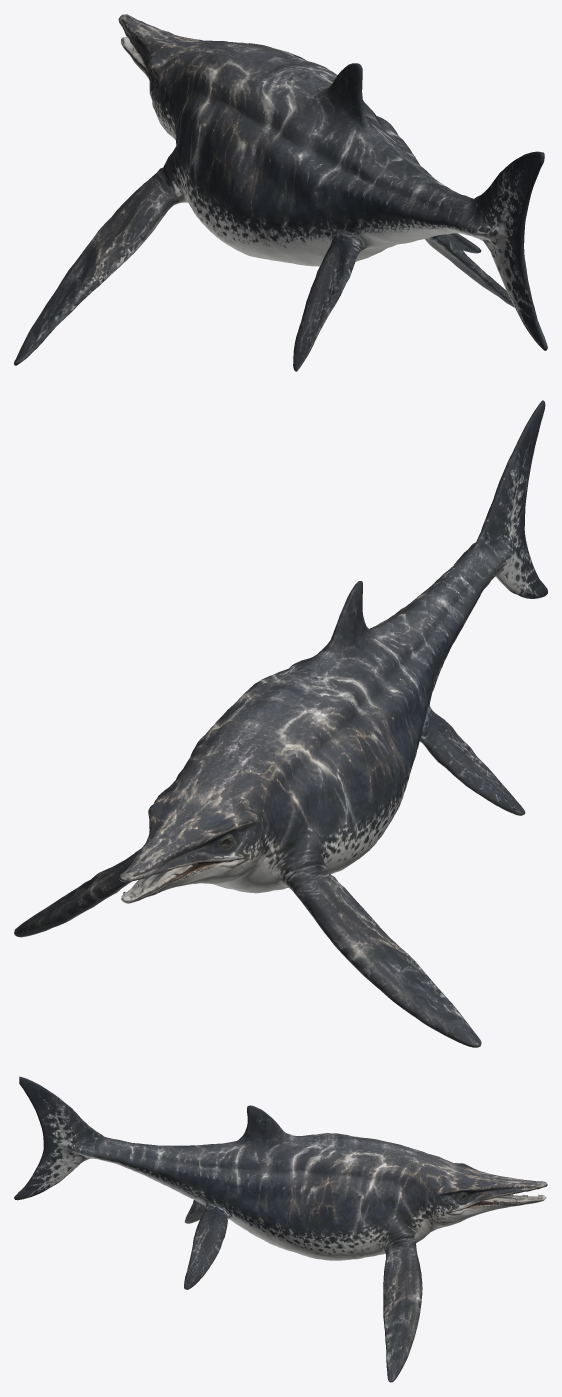
Rendered from shonisaurus.raw.glb.
3 views of the same model, one above another, from view 1: azimuth 30°, elevation 25°; view 2: azimuth 150°, elevation 25°; view 3: azimuth 270°, elevation 25° (orthographic). The views are drawn at different scales.
Visible parts, largest first — view 1: tripo_node_96200215-8896-4447-8891-e4991a2b23f8; view 2: tripo_node_96200215-8896-4447-8891-e4991a2b23f8; view 3: tripo_node_96200215-8896-4447-8891-e4991a2b23f8.
Part boxes in pixels (left/top/right/bottom): tripo_node_96200215-8896-4447-8891-e4991a2b23f8: left=14, top=14, right=547, bottom=371; tripo_node_96200215-8896-4447-8891-e4991a2b23f8: left=14, top=400, right=547, bottom=1047; tripo_node_96200215-8896-4447-8891-e4991a2b23f8: left=14, top=1076, right=547, bottom=1382.
Bounding box in the file's own units: 0.6344 × 0.4854 × 1.
1 material, 1 textured.
